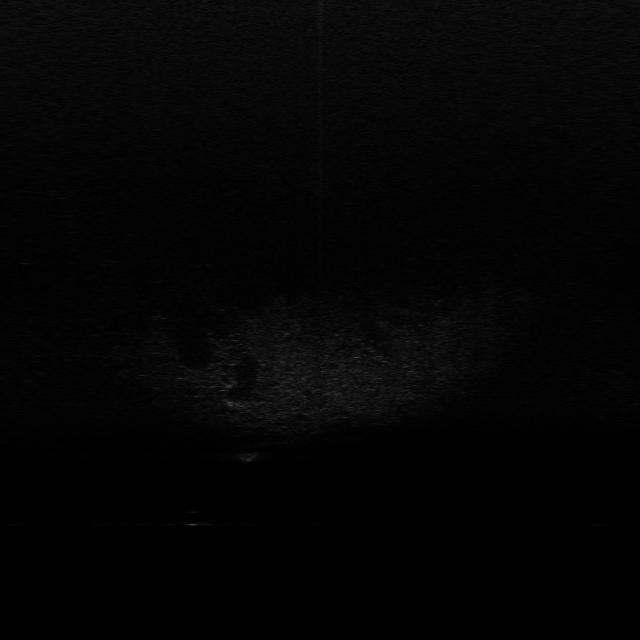ball: (177, 508, 213, 528)
cube: (236, 448, 266, 464)
